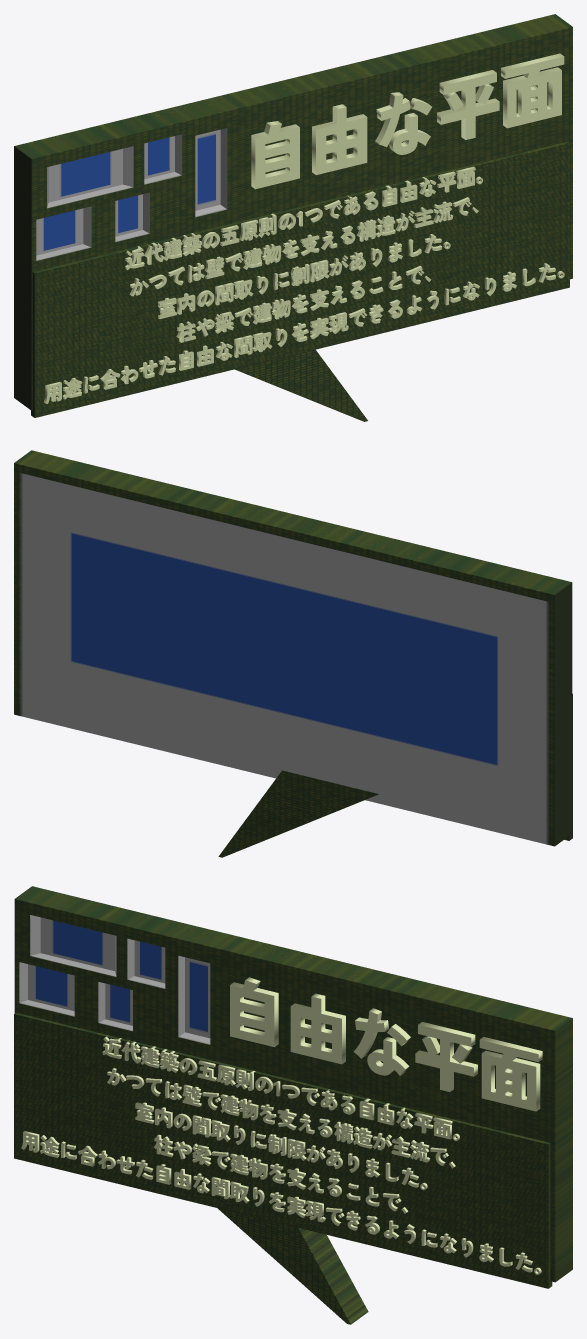
The model's file is fukidasi-ziyuheimen.glb.
3 views of the same model, one above another, from view 1: azimuth 30°, elevation 25°; view 2: azimuth 150°, elevation 25°; view 3: azimuth 330°, elevation 25° (orthographic).
Visible parts, largest first — view 1: 立方体, 立方体.002, テキスト, テキスト.002, 立方体.001; view 2: 立方体, 立方体.001; view 3: 立方体, 立方体.002, テキスト, テキスト.002, 立方体.001.
Part boxes in pixels (x1,y1,x2,y2): 立方体: (14, 14, 572, 410); 立方体.002: (31, 141, 569, 417); テキスト: (44, 166, 564, 403); テキスト.002: (251, 53, 564, 189); 立方体.001: (235, 349, 367, 421); 立方体: (14, 450, 572, 846); 立方体.001: (218, 770, 379, 857); 立方体: (14, 886, 572, 1282); 立方体.002: (14, 1012, 552, 1288); テキスト: (21, 1036, 541, 1274); テキスト.002: (230, 977, 542, 1111); 立方体.001: (217, 1208, 368, 1324).
Size of the model in its own units: 11.12 by 6.75 by 0.7737.
4 materials, 3 textured.
